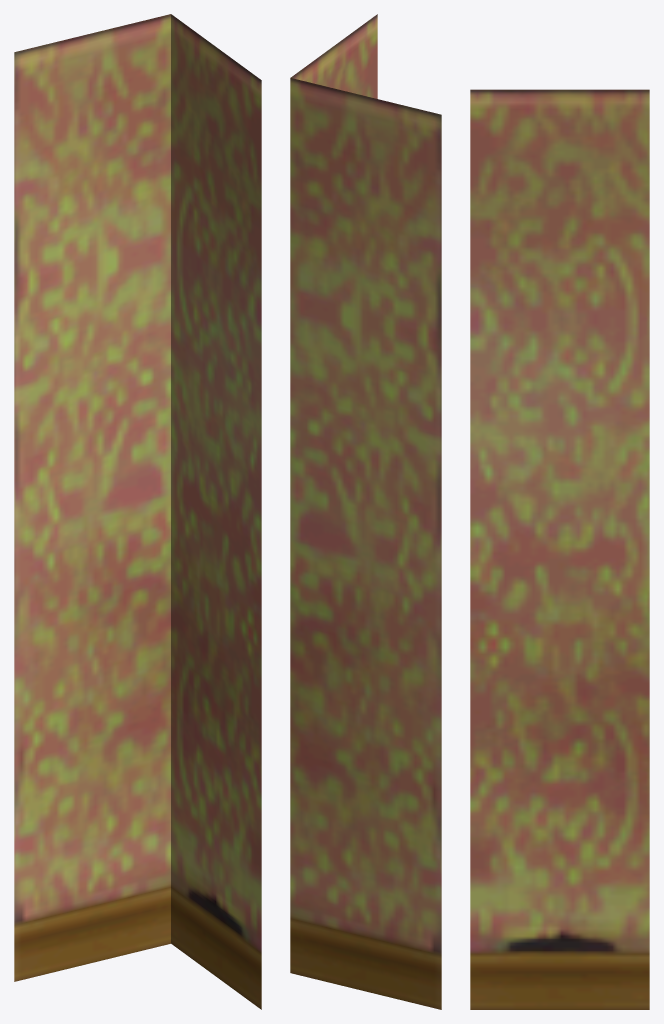
Rendered from W_A1_Eckverschluß [RosaPlastik]_2299.glb.
3 renders of one model, left to right at view 1: azimuth 30°, elevation 25°; view 2: azimuth 150°, elevation 25°; view 3: azimuth 270°, elevation 25°, orthographic. The views are drawn at different scales.
Visible parts, largest first — view 1: pPlaneShape7; view 2: pPlaneShape7; view 3: pPlaneShape7.
Boxes of the visible parts, x1,y1,x2,y2 form: pPlaneShape7: (14,14,261,1009); pPlaneShape7: (290,14,441,1009); pPlaneShape7: (470,89,649,1009).
Bounding box in the file's own units: 0.0615 × 0.3486 × 0.0615.
Materials: 1 (1 with a texture image).
